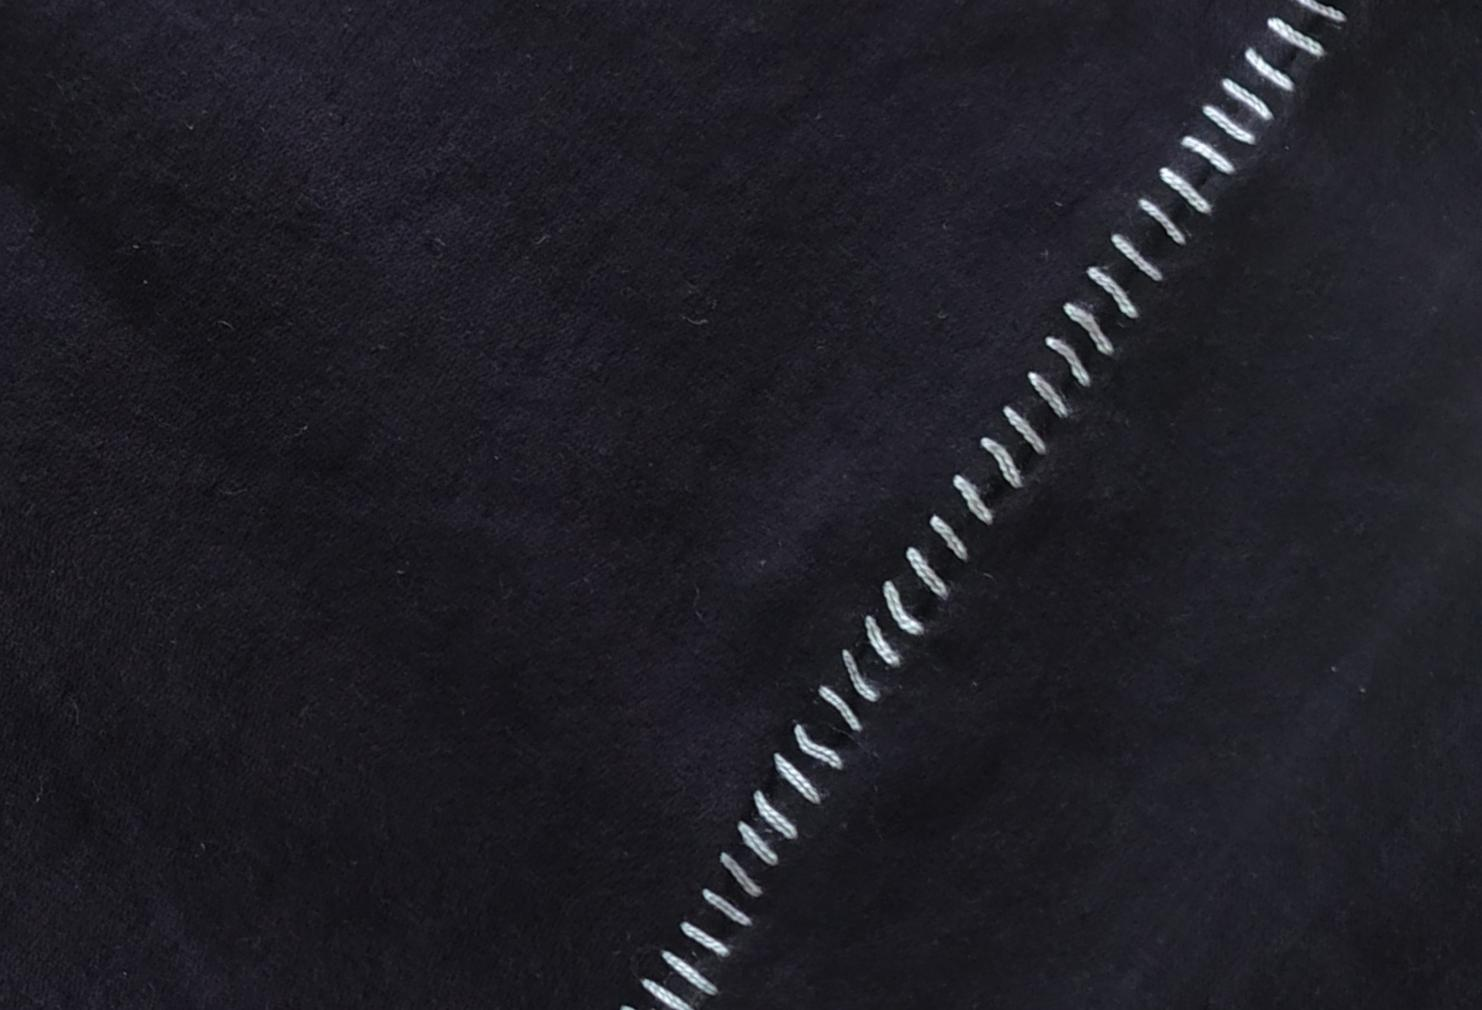slub: (614, 0, 1359, 1008)
